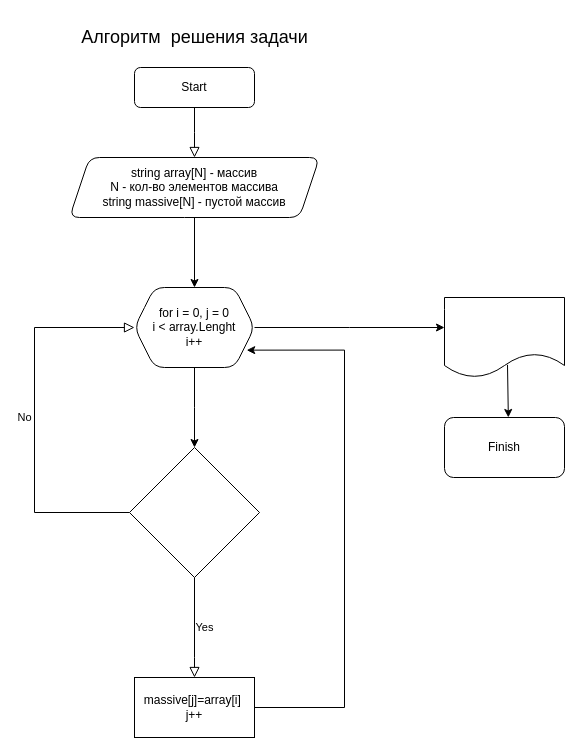
The diagram is 582 pixels wide and 755 high, and some of its shapes have lost their labels. Each missing label, with the centre of its shape:
Lenght array[i] <= three char?: point 194,512
Print (massive[j]): point 504,337
